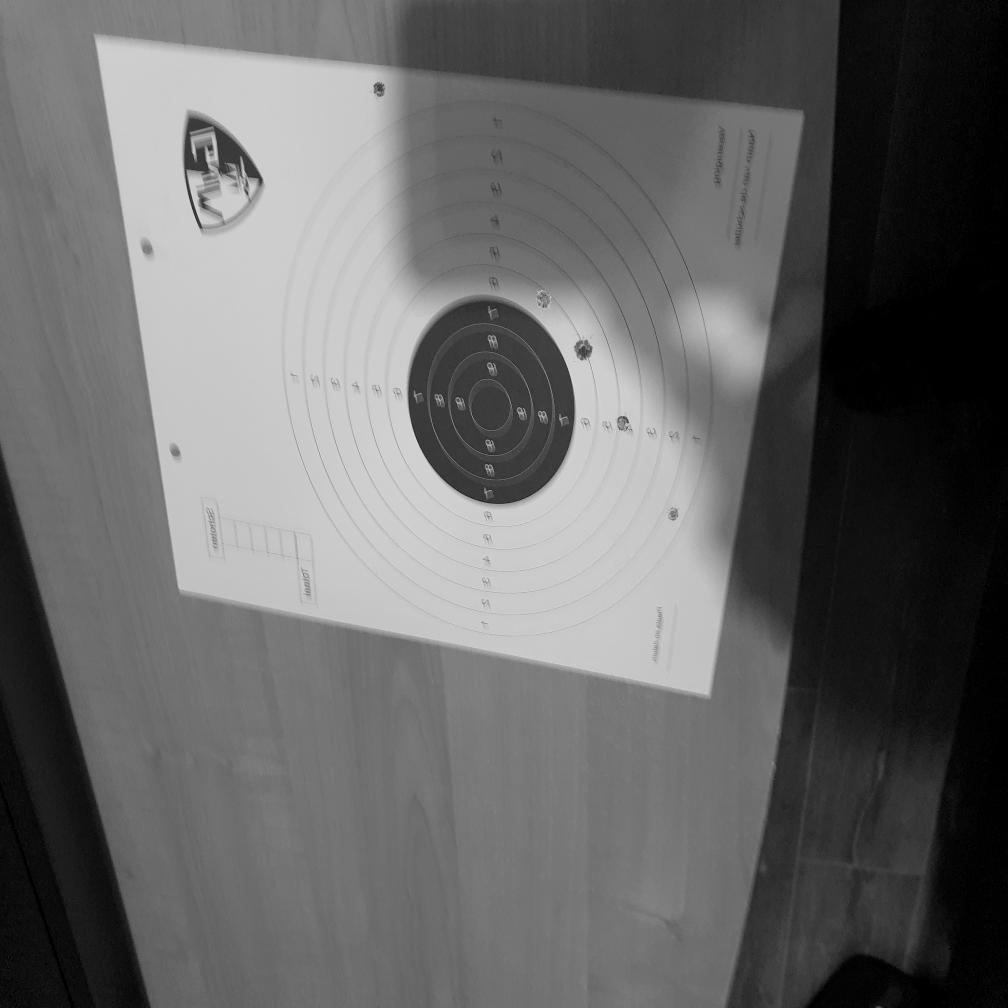0: (372, 80, 385, 98)
1: (667, 507, 678, 522)
5: (616, 416, 630, 432)
6: (574, 340, 593, 361), (535, 289, 551, 313)
Target: (279, 96, 717, 642)
black_contour: (406, 296, 576, 506)
